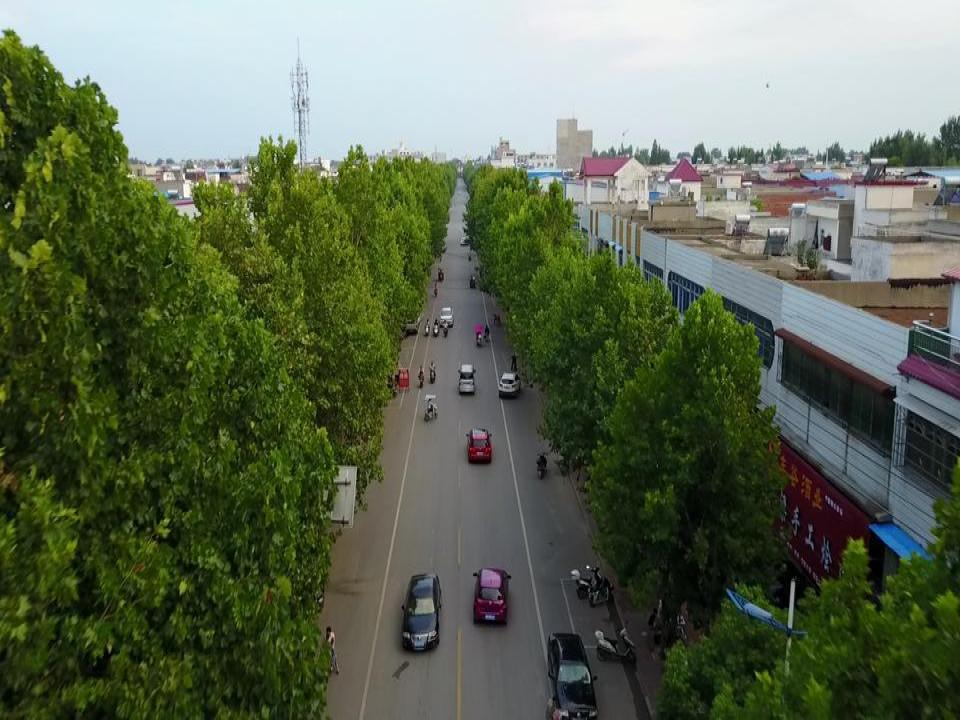car: (545, 629, 599, 719), (399, 570, 444, 650), (472, 567, 511, 624), (465, 425, 494, 464), (497, 369, 521, 400), (439, 306, 454, 326), (459, 238, 468, 245)
van: (457, 364, 475, 393), (404, 312, 418, 335)
